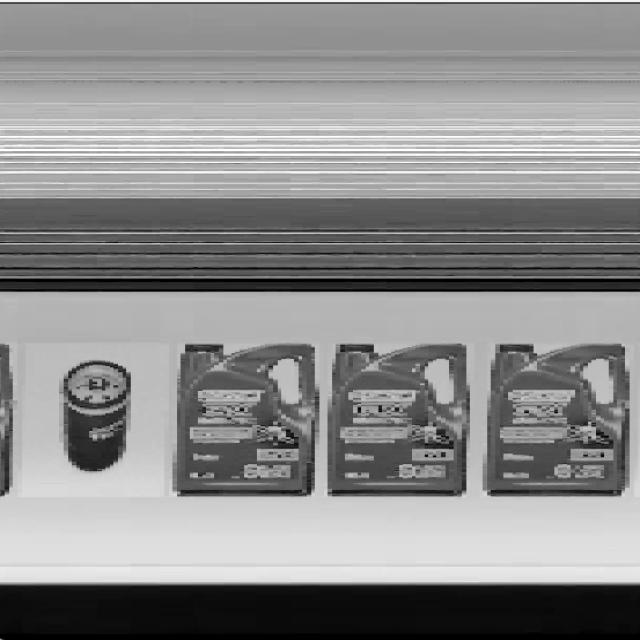motor_oil: (171, 338, 323, 500), (483, 339, 634, 499), (324, 340, 474, 496)
oil_filter: (57, 352, 134, 479)
